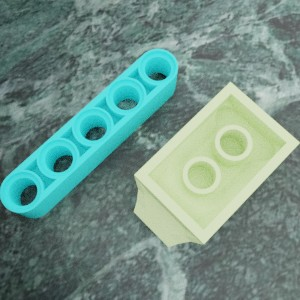lego: (0, 48, 178, 218), (133, 81, 300, 247)
